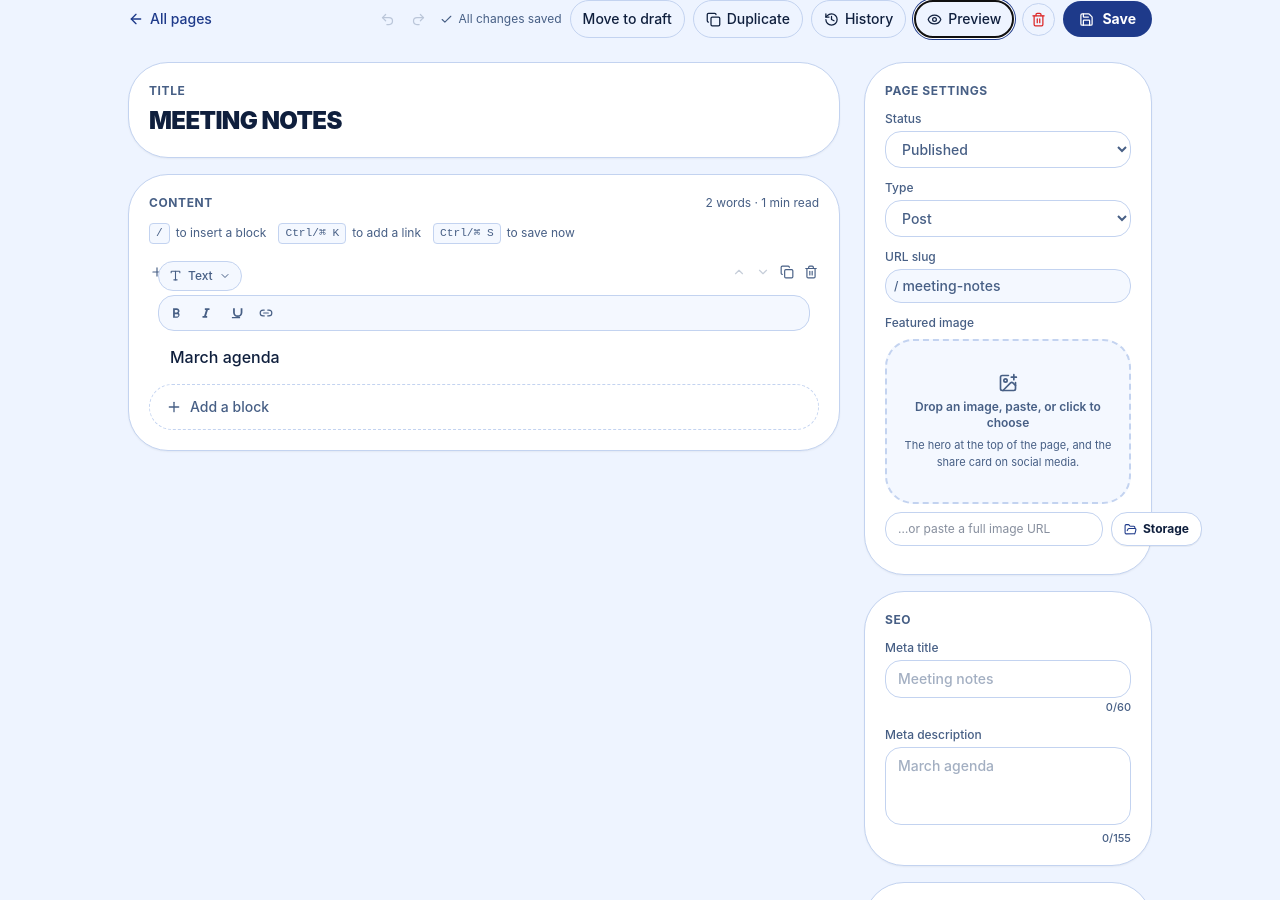
Test: ContentEditor preview › holds focus inside the dialog instead of letting it escape to the editor
The width and height of the screenshot is (1280, 900).
Click the button "Preview" at (964, 19), box [914,0,1014,38]
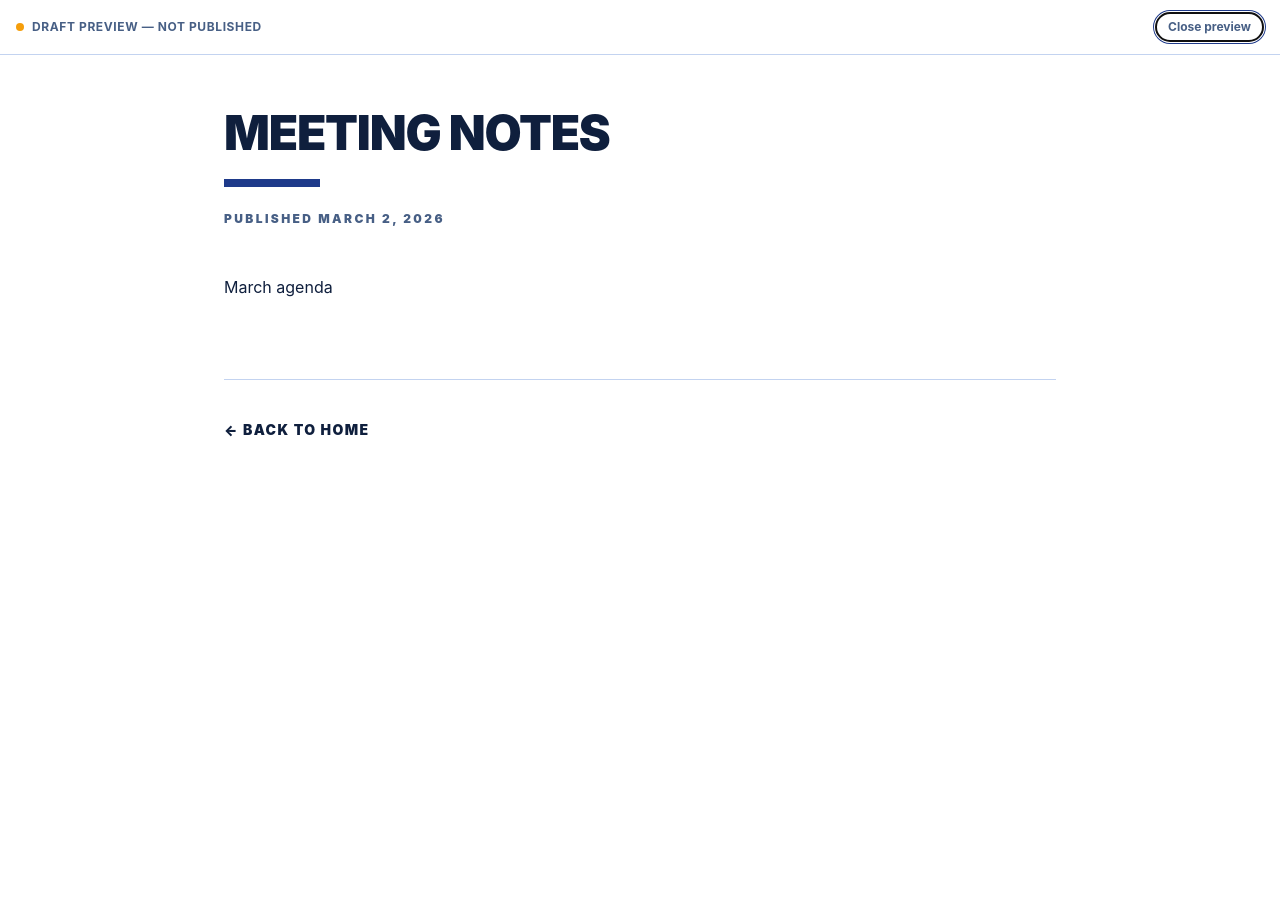
Expected: the dialog is shown
